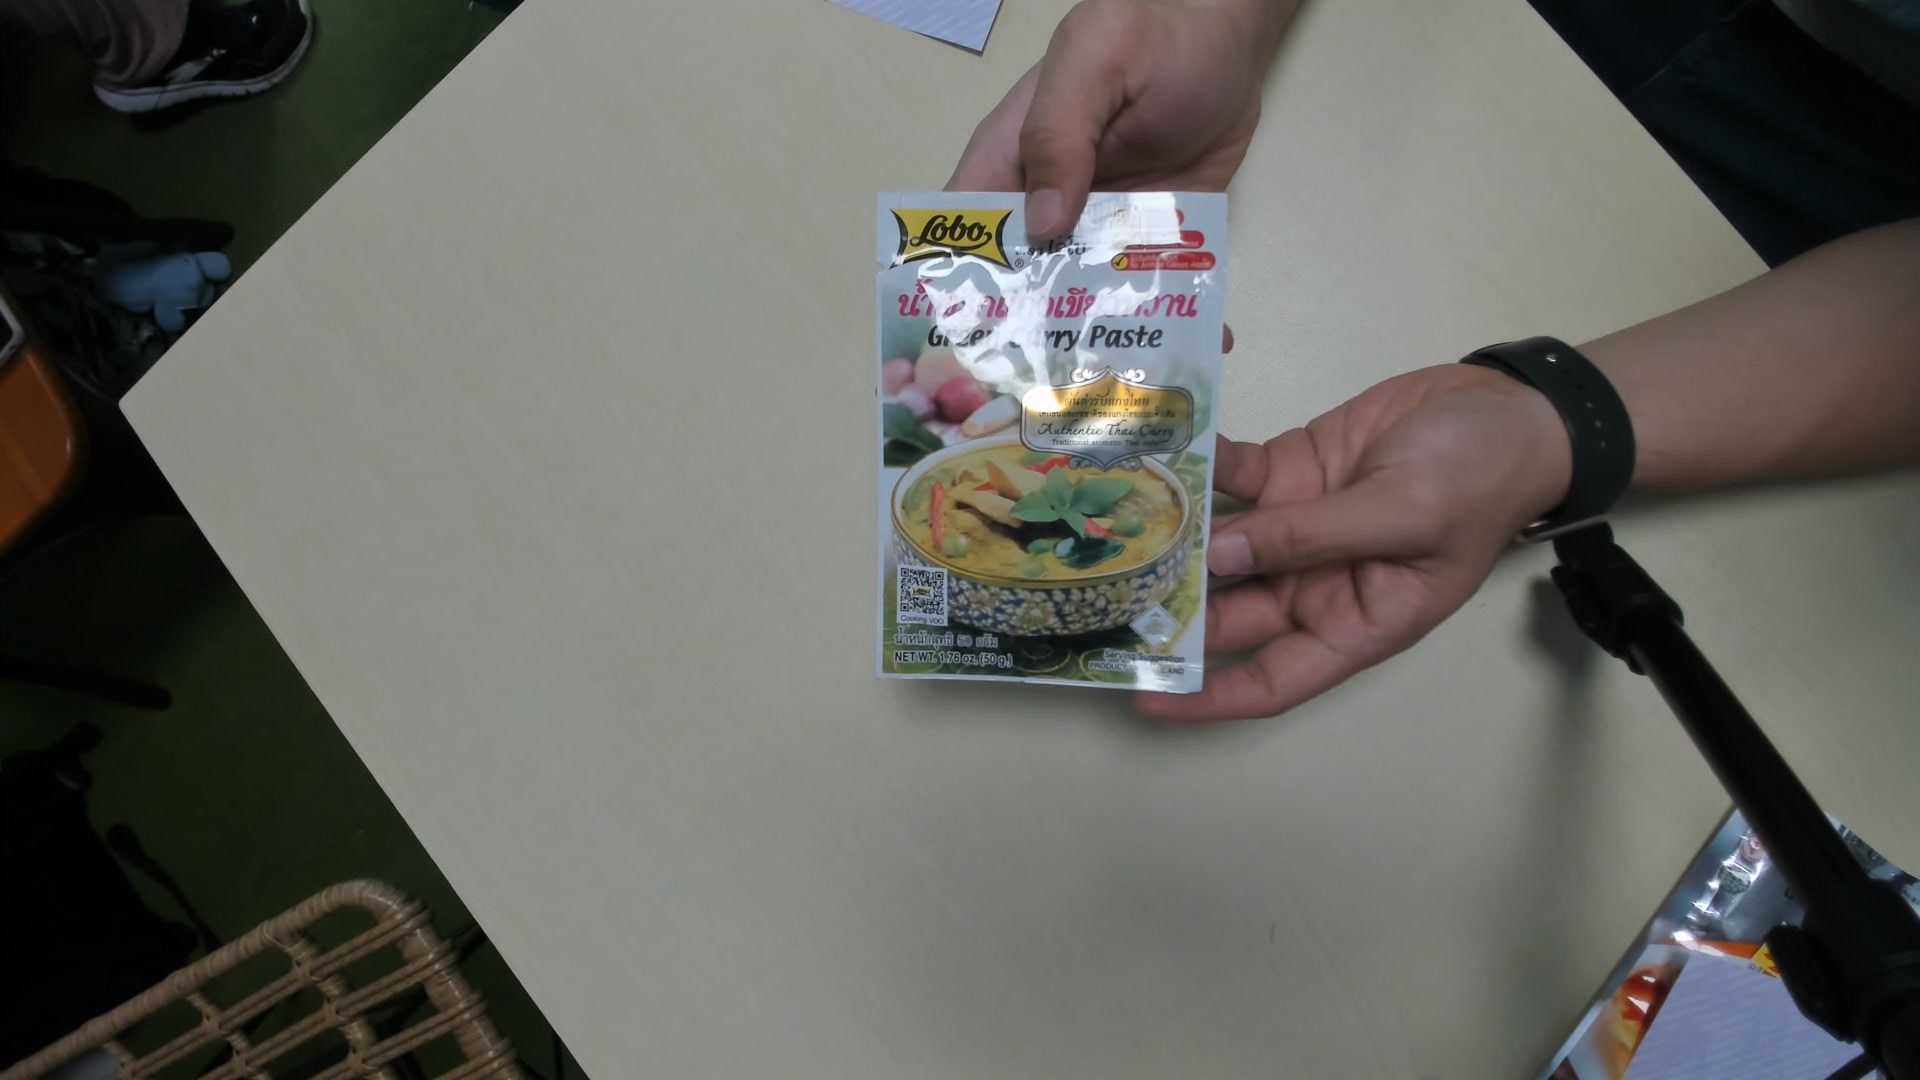CurryPastePowderSauce_0-99g_Halal_NonHealthy: (876, 177, 1211, 688)
